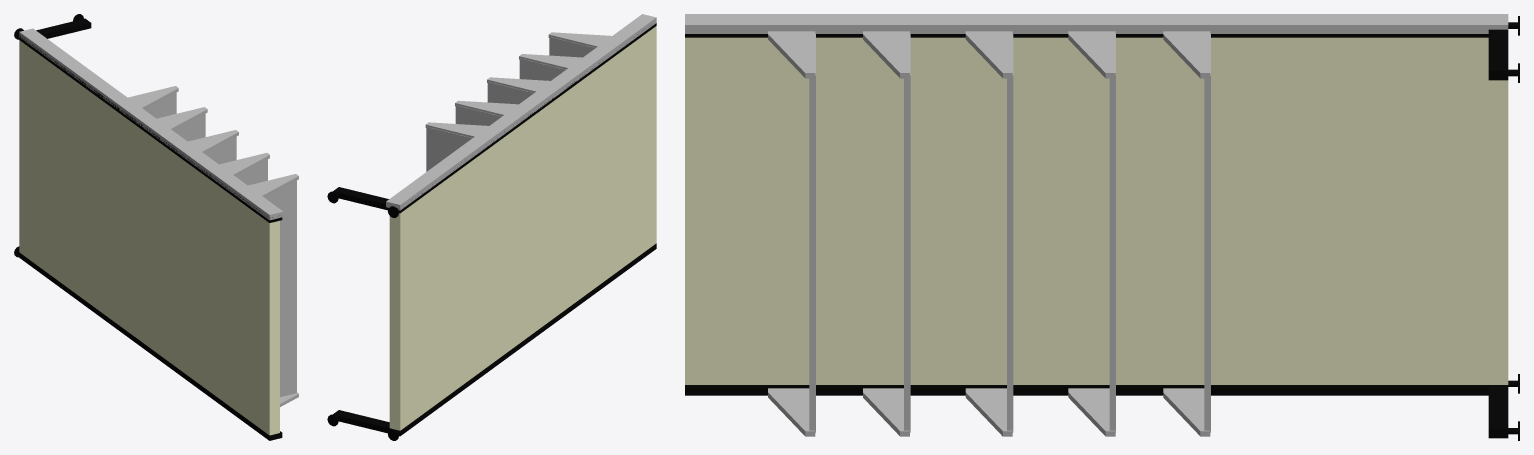
File: nil_link_mesh.dae
The picture shows the model from 3 angles, left to right: view 1: azimuth 30°, elevation 25°; view 2: azimuth 150°, elevation 25°; view 3: azimuth 270°, elevation 25°; orthographic projection. The views are drawn at different scales.
Visible parts, largest first — view 1: nil_link (×10); view 2: nil_link (×11); view 3: nil_link (×11).
Boxes of the visible parts, <box> form: nil_link (×10): <box>19,18,298,440</box>; nil_link (×11): <box>333,14,656,436</box>; nil_link (×11): <box>685,14,1508,438</box>.
Size of the model in its own units: 0.4 by 1.26 by 2.54.
